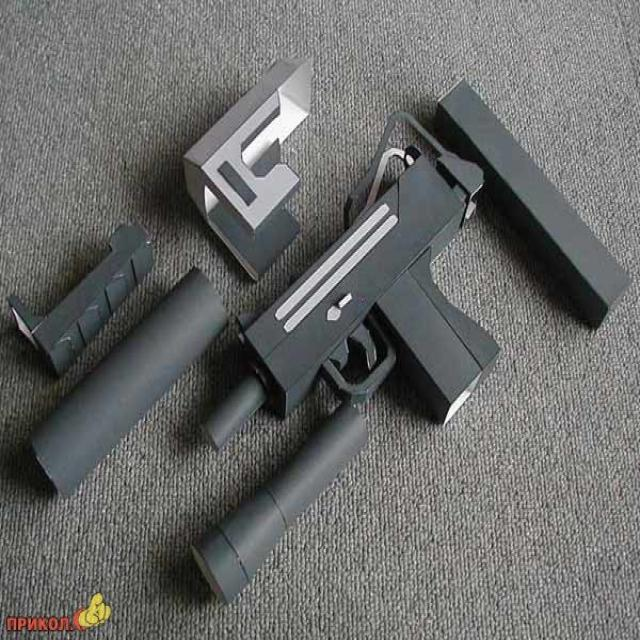firearm: (204, 108, 503, 450)
